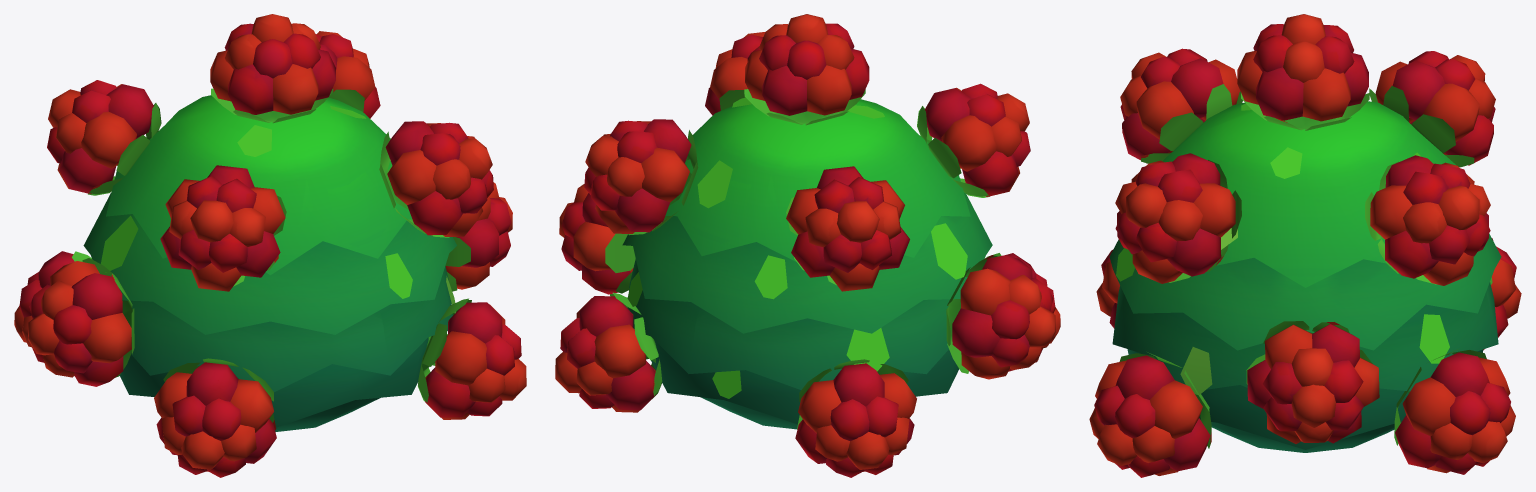
File: Strawberry.fbx
The picture shows the model from 3 angles, left to right: view 1: azimuth 30°, elevation 25°; view 2: azimuth 150°, elevation 25°; view 3: azimuth 270°, elevation 25°; orthographic projection. The views are drawn at different scales.
Visible parts, largest first — view 1: Kust.005, Sphere.004, Sphere.008, Sphere.013, Sphere.002, Sphere.007, Sphere.011, Sphere.005, Sphere.012, Sphere.006, Sphere.009; view 2: Kust.005, Sphere.005, Sphere.009, Sphere.002, Sphere.013, Sphere.006, Sphere.004, Sphere.010, Sphere.012, Sphere.007; view 3: Kust.005, Sphere.012, Sphere.006, Sphere.007, Sphere.002, Sphere.011, Sphere.010, Sphere.005, Sphere.004, Sphere.009, Sphere.008.
Boxes of the visible parts, x1,y1,x2,y2 form: Kust.005: (83, 95, 456, 431); Sphere.004: (160, 165, 286, 291); Sphere.008: (154, 358, 276, 477); Sphere.013: (28, 258, 134, 386); Sphere.002: (210, 14, 335, 123); Sphere.007: (379, 121, 493, 237); Sphere.011: (418, 298, 526, 419); Sphere.005: (47, 80, 161, 195); Sphere.012: (445, 182, 512, 291); Sphere.006: (315, 31, 380, 118); Sphere.009: (14, 251, 92, 362); Kust.005: (622, 97, 992, 429); Sphere.005: (786, 166, 909, 291); Sphere.009: (795, 359, 916, 477); Sphere.002: (744, 14, 869, 125); Sphere.013: (946, 255, 1055, 379); Sphere.006: (584, 119, 698, 235); Sphere.004: (917, 83, 1030, 197); Sphere.010: (555, 292, 662, 412); Sphere.012: (559, 184, 635, 294); Sphere.007: (705, 32, 765, 115); Kust.005: (1109, 101, 1501, 452); Sphere.012: (1246, 321, 1379, 443); Sphere.006: (1365, 155, 1490, 285); Sphere.007: (1115, 153, 1241, 283); Sphere.002: (1237, 14, 1369, 130); Sphere.011: (1089, 352, 1211, 477); Sphere.010: (1394, 348, 1515, 474); Sphere.005: (1369, 51, 1495, 167); Sphere.004: (1120, 48, 1242, 163); Sphere.009: (1483, 238, 1521, 349); Sphere.008: (1096, 249, 1119, 328).
Bounding box in the file's own units: 2.44 × 1.88 × 1.78.
